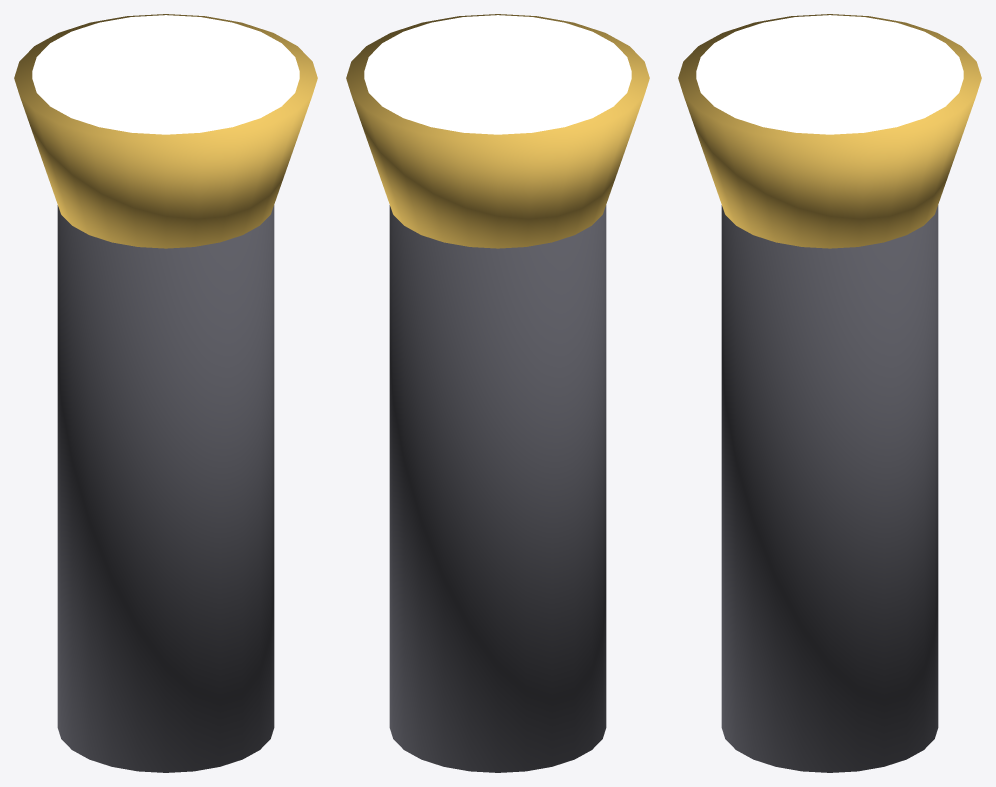
The model's file is linterna.glb.
3 renders of one model, left to right at view 1: azimuth 30°, elevation 25°; view 2: azimuth 150°, elevation 25°; view 3: azimuth 270°, elevation 25°, orthographic.
Parts seen in each view (by area): view 1: flashlight; view 2: flashlight; view 3: flashlight.
Boxes of the visible parts, x1,y1,x2,y2 form: flashlight: [14, 14, 317, 772]; flashlight: [346, 14, 649, 772]; flashlight: [678, 14, 981, 772].
Size of the model in its own units: 0.084 by 0.2 by 0.084.
